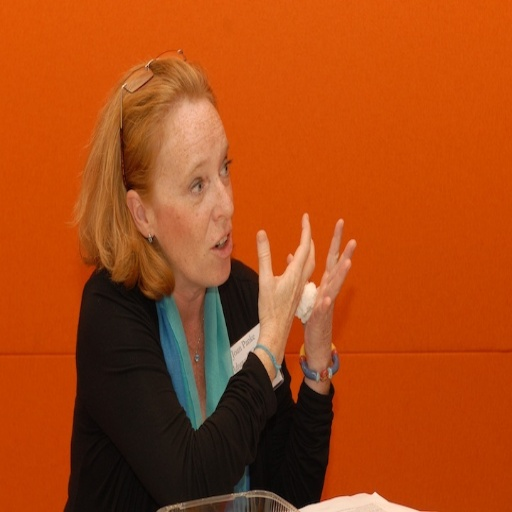hand: (252, 209, 335, 403), (300, 216, 355, 356)
